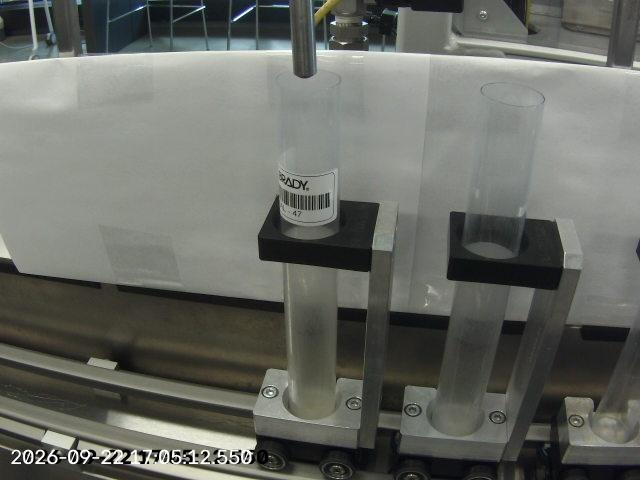vial: (427, 78, 548, 435), (273, 64, 346, 421)
